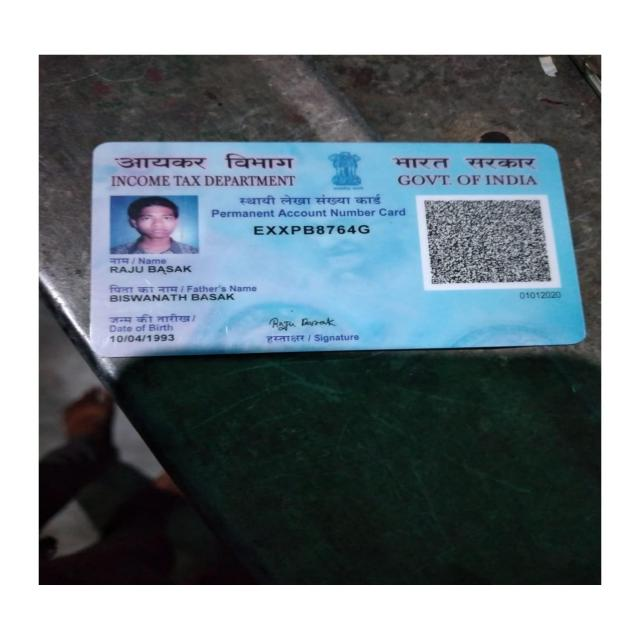pan_card: (97, 142, 585, 353)
